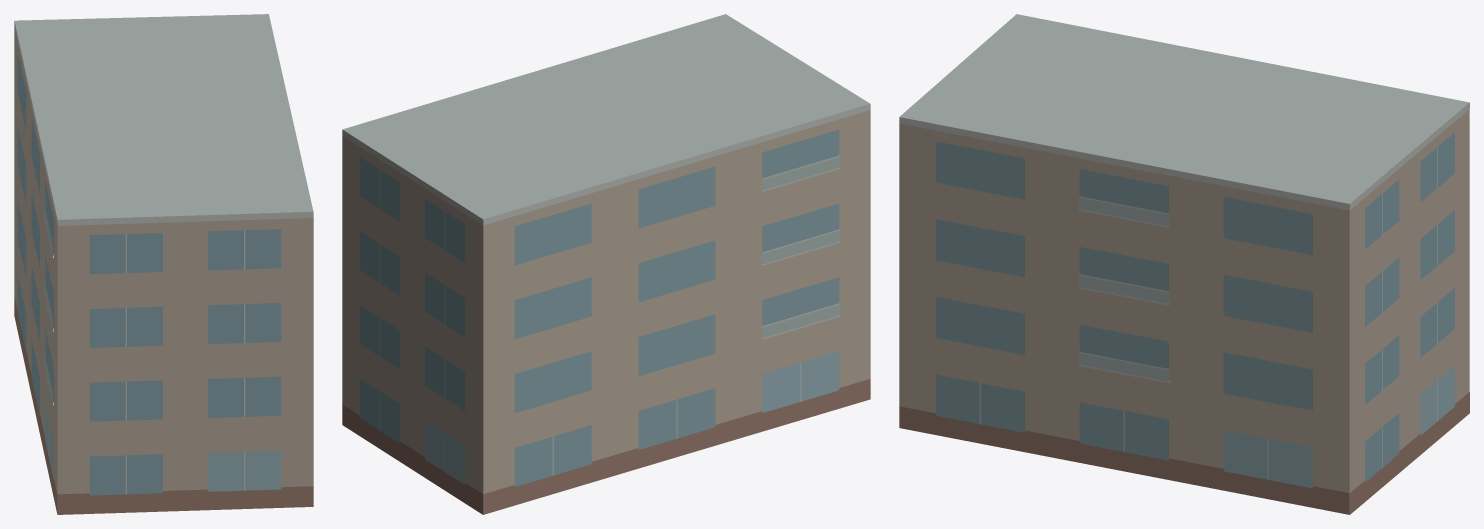
File: survey-upis-32663360.glb
The picture shows the model from 3 angles, left to right: view 1: azimuth 30°, elevation 25°; view 2: azimuth 150°, elevation 25°; view 3: azimuth 270°, elevation 25°; orthographic projection. The views are drawn at different scales.
Visible parts, largest first — view 1: survey-upis-32663360.tmp; view 2: survey-upis-32663360.tmp; view 3: survey-upis-32663360.tmp.
Boxes of the visible parts, box(x1,y1,x2,y2) form: survey-upis-32663360.tmp: box(14, 14, 313, 514); survey-upis-32663360.tmp: box(342, 14, 870, 514); survey-upis-32663360.tmp: box(899, 14, 1469, 514).
Bounding box in the file's own units: 15.34 × 11.7 × 19.47.
